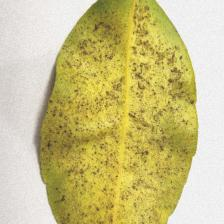canker: (72, 38, 170, 182)
